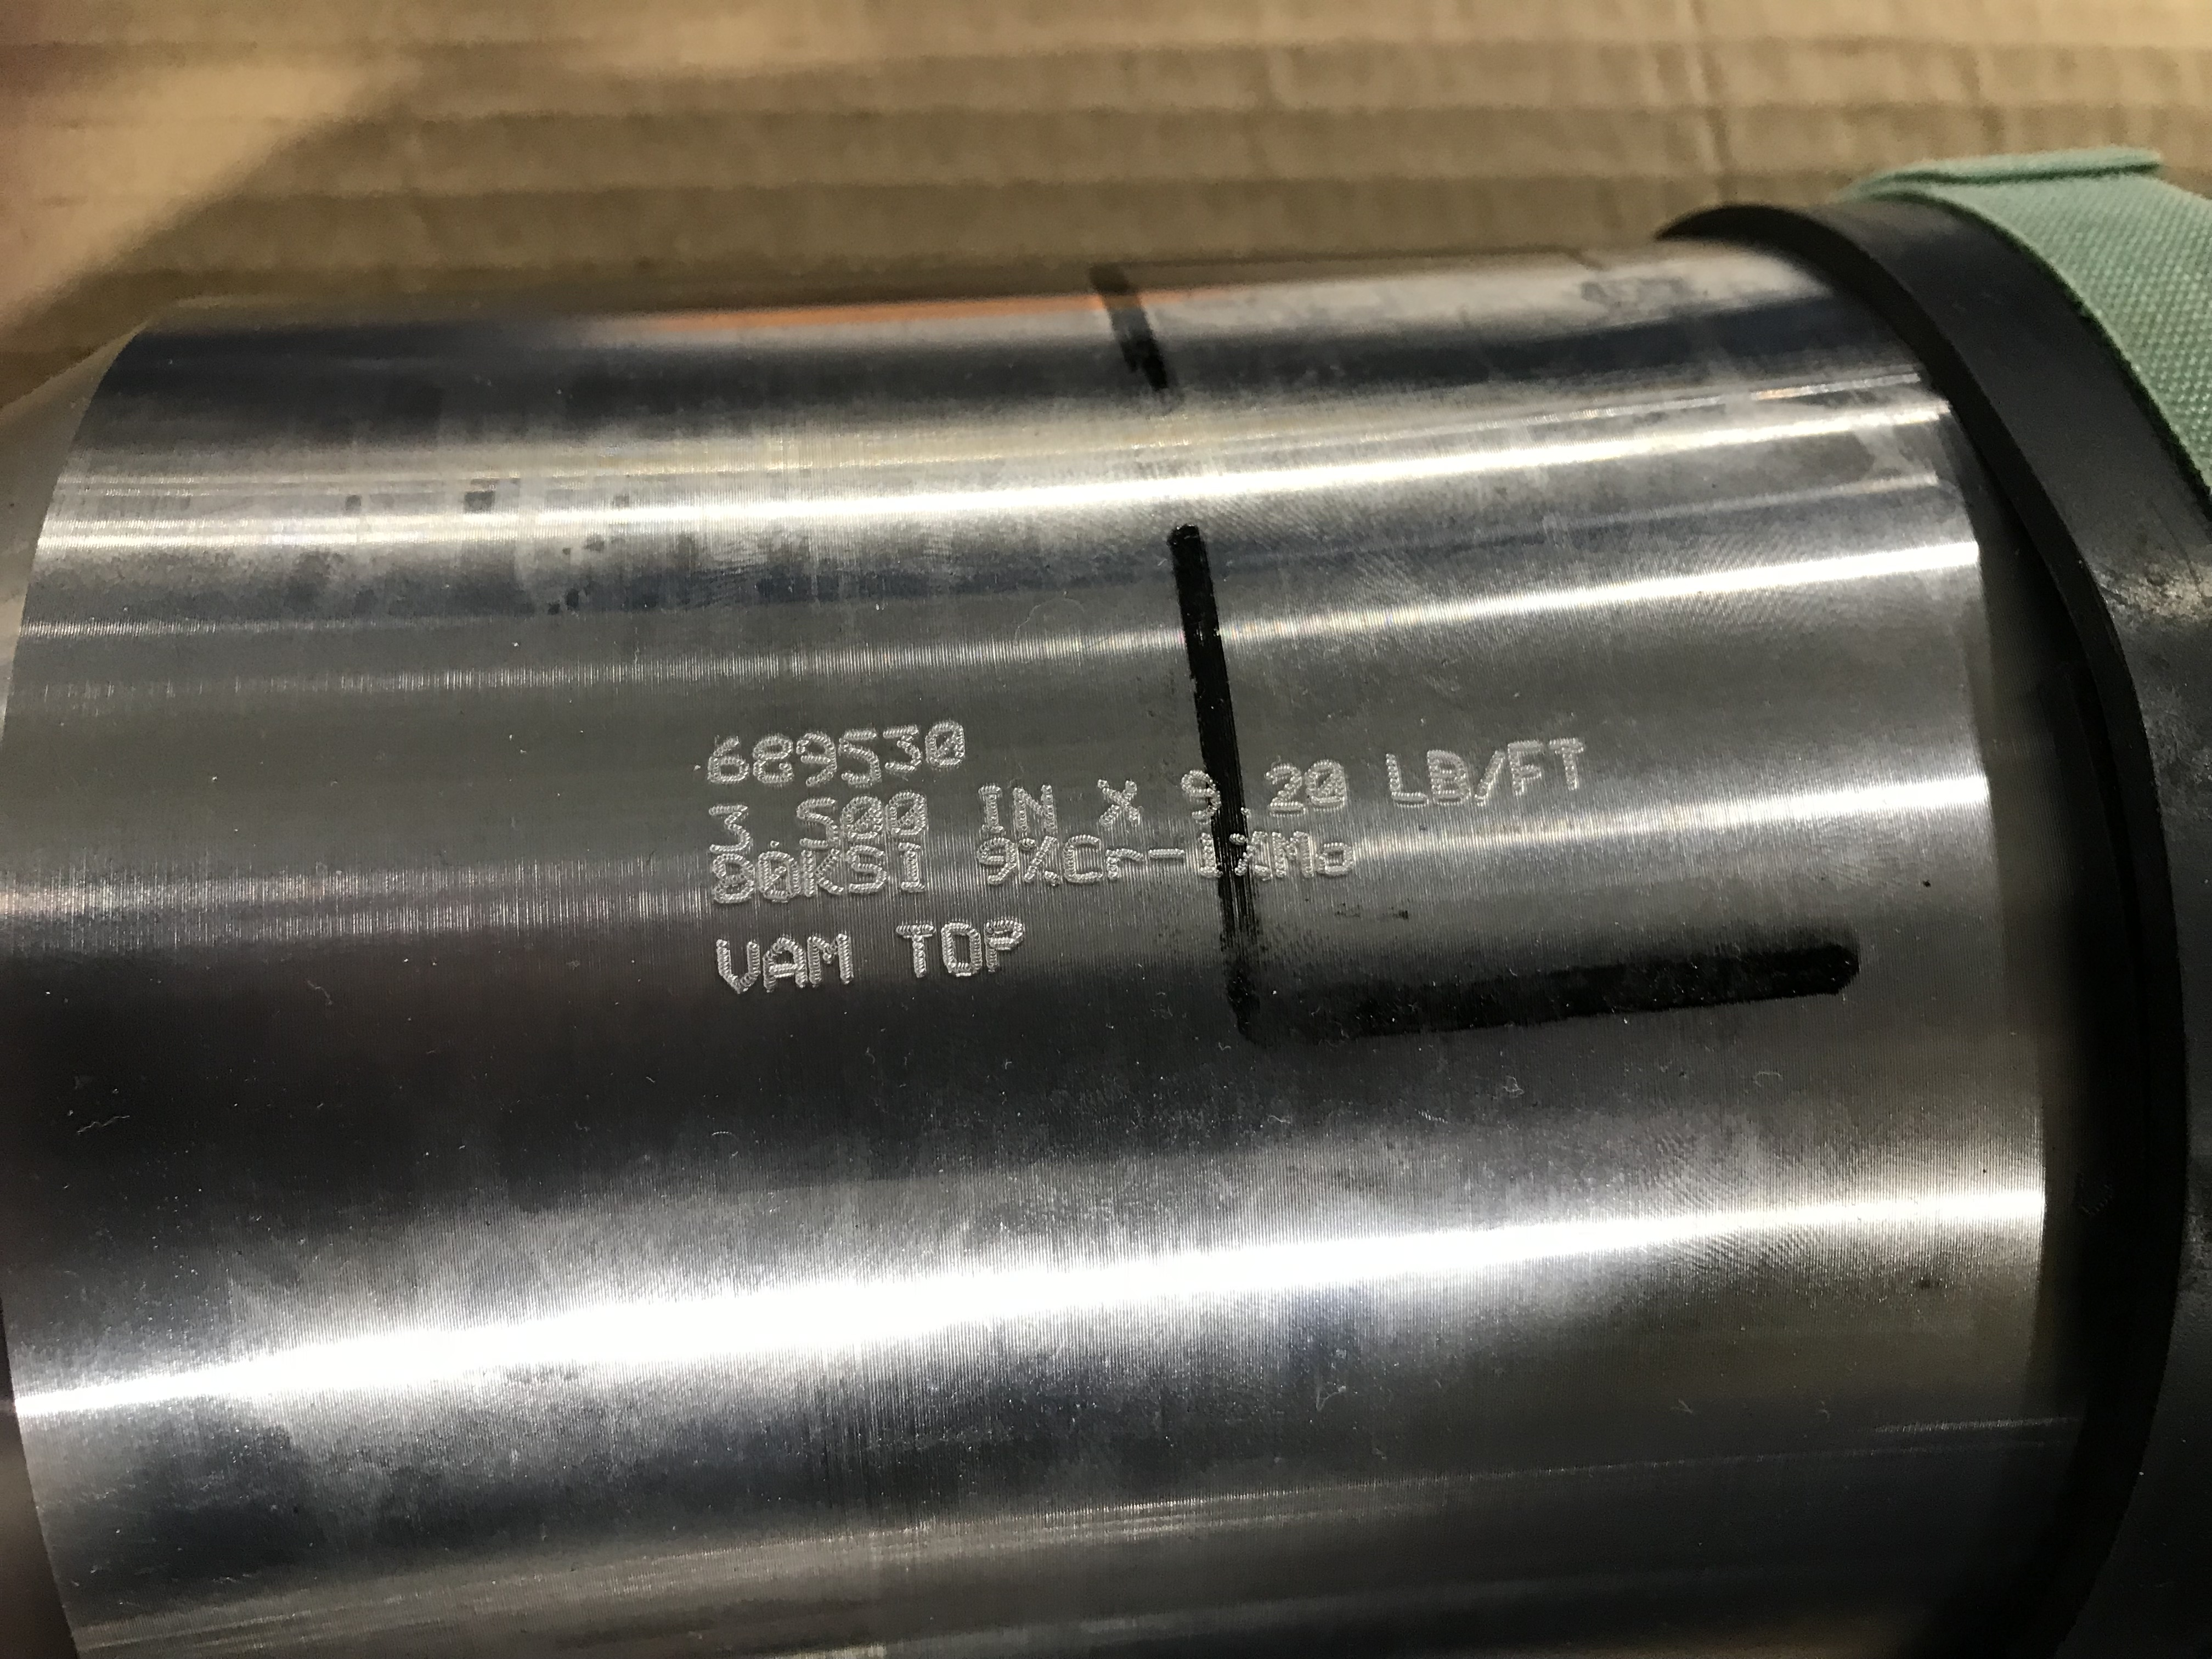character: (1005, 779, 1062, 840), (805, 925, 857, 988), (745, 734, 796, 796), (939, 915, 984, 985), (840, 721, 881, 795), (712, 936, 761, 999), (1090, 775, 1146, 830), (977, 913, 1026, 974), (702, 727, 745, 795), (892, 918, 939, 981), (702, 798, 756, 852), (921, 716, 968, 777), (705, 854, 756, 910), (881, 786, 930, 843), (1264, 755, 1305, 824), (1268, 826, 1313, 887), (796, 727, 840, 789), (794, 847, 846, 899), (791, 795, 840, 850), (840, 789, 887, 847), (1017, 831, 1064, 889), (763, 934, 806, 995), (754, 849, 801, 904), (843, 842, 885, 904), (892, 838, 934, 901), (1179, 767, 1224, 824), (880, 723, 921, 784), (974, 836, 1021, 890), (1224, 826, 1268, 884), (1305, 758, 1350, 810), (1066, 833, 1108, 889), (1310, 833, 1357, 878), (974, 779, 1005, 836), (1103, 845, 1144, 884), (1191, 828, 1221, 880), (1144, 838, 1190, 866)
